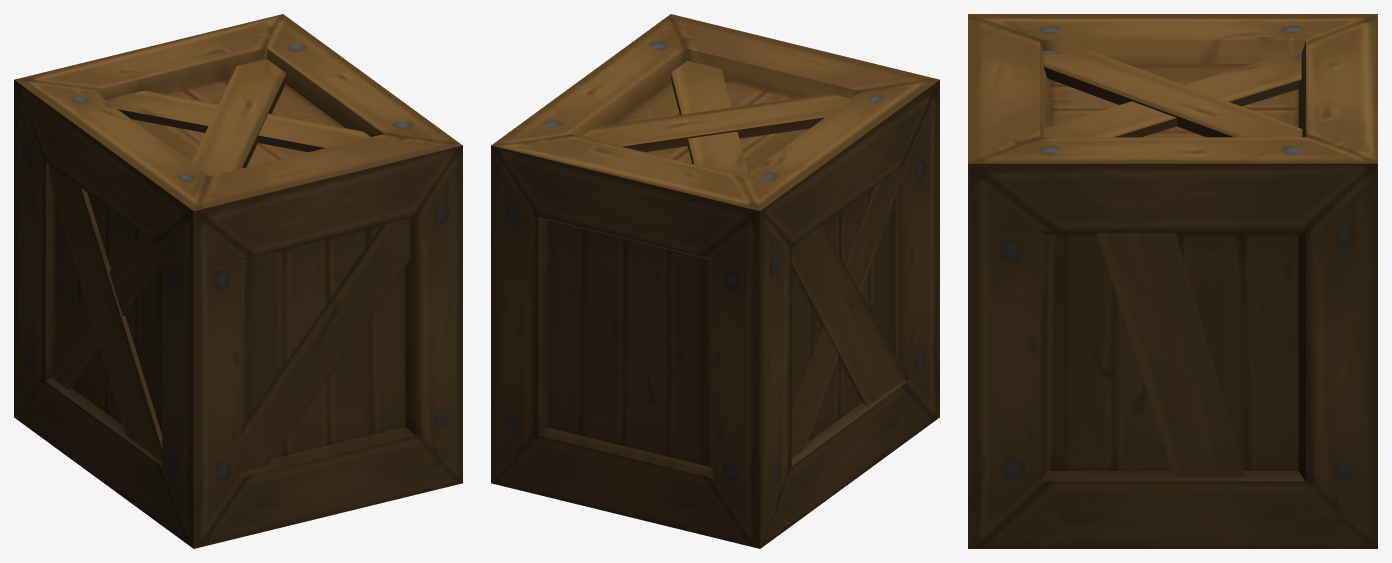
File: OutdoorM_Crate_b.FBX
3 renders of one model, left to right at view 1: azimuth 30°, elevation 25°; view 2: azimuth 150°, elevation 25°; view 3: azimuth 270°, elevation 25°, orthographic. The views are drawn at different scales.
Visible parts, largest first — view 1: OutdoorM_Crate_b; view 2: OutdoorM_Crate_b; view 3: OutdoorM_Crate_b.
Part boxes in pixels (box(x1,y1,x2,y2)): OutdoorM_Crate_b: box(14, 14, 462, 548); OutdoorM_Crate_b: box(491, 14, 939, 548); OutdoorM_Crate_b: box(968, 14, 1377, 548).
Bounding box in the file's own units: 6.78 × 8.13 × 7.85.
